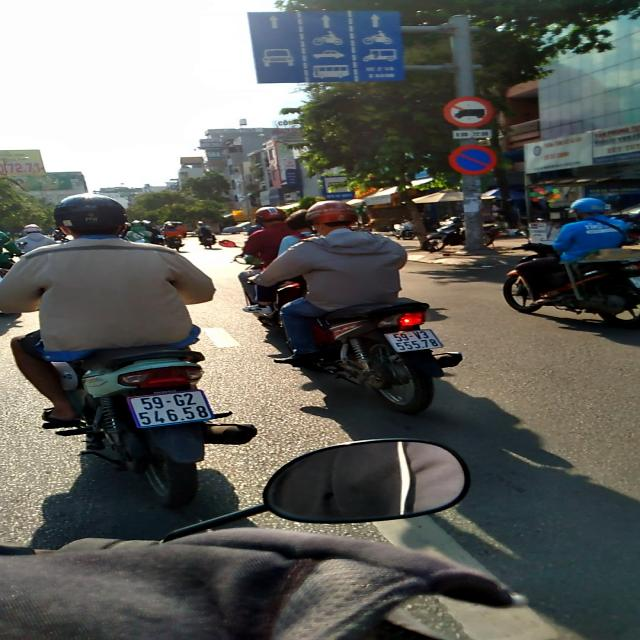P.106a: (443, 96, 494, 128)
P.131a: (449, 145, 497, 175)
